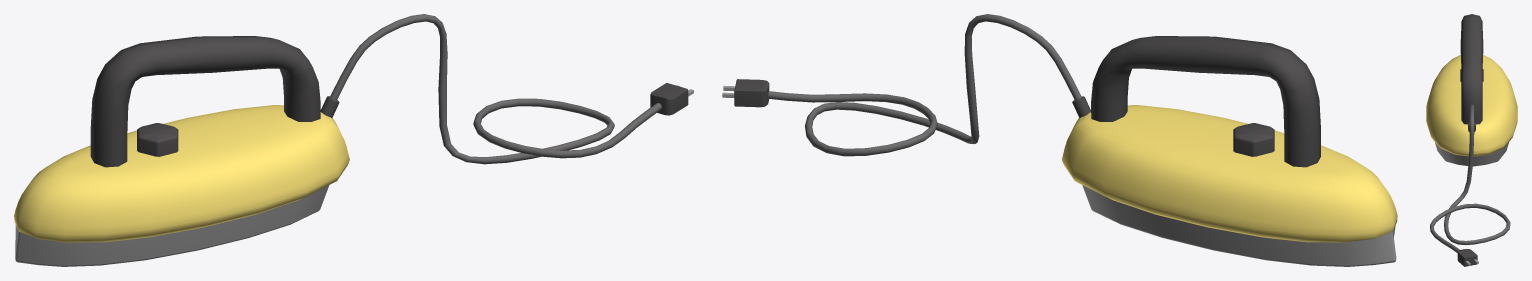
File: Iron_1.glb
3 views of the same model, side by side, from view 1: azimuth 30°, elevation 25°; view 2: azimuth 150°, elevation 25°; view 3: azimuth 270°, elevation 25° (orthographic). The views are drawn at different scales.
Visible parts, largest first — view 1: Iron_1; view 2: Iron_1; view 3: Iron_1.
Boxes of the visible parts, box(x1,y1,x2,y2) form: Iron_1: box(14, 14, 693, 266); Iron_1: box(722, 14, 1397, 266); Iron_1: box(1426, 14, 1517, 266).
Size of the model in its own units: 0.5617 by 0.1478 by 0.1182.
1 material, 1 textured.
